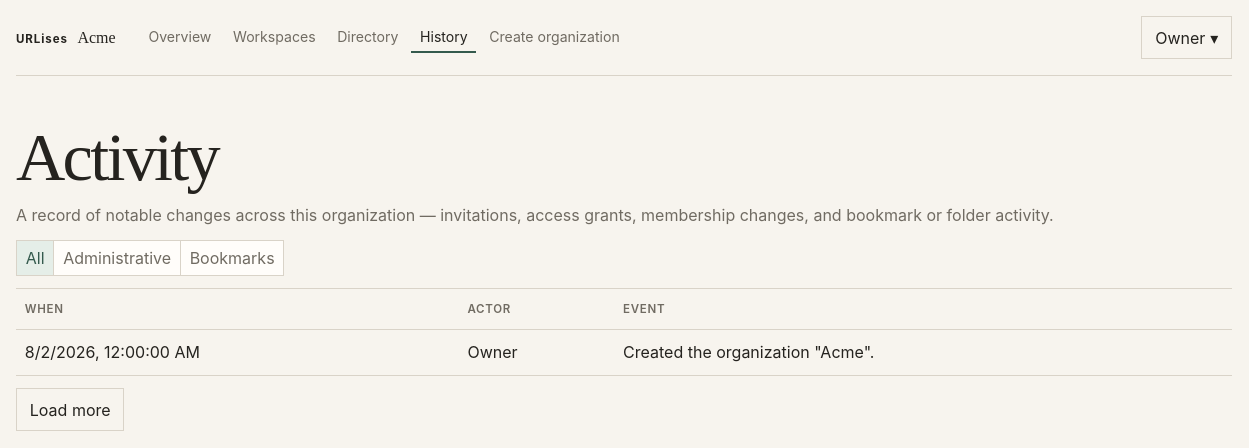
Test case: activity page › renders a populated table with formatted event sentences and loads the next page on demand
The width and height of the screenshot is (1249, 448).
expect the text "Created the organization \"Acme\"." is shown: met, box x1=614 y1=329 x2=1232 y2=376
expect the column heading "When" is shown: met, box x1=16 y1=289 x2=459 y2=329
Click the button "Load more" at (70, 410), box x1=16 y1=388 x2=124 y2=431
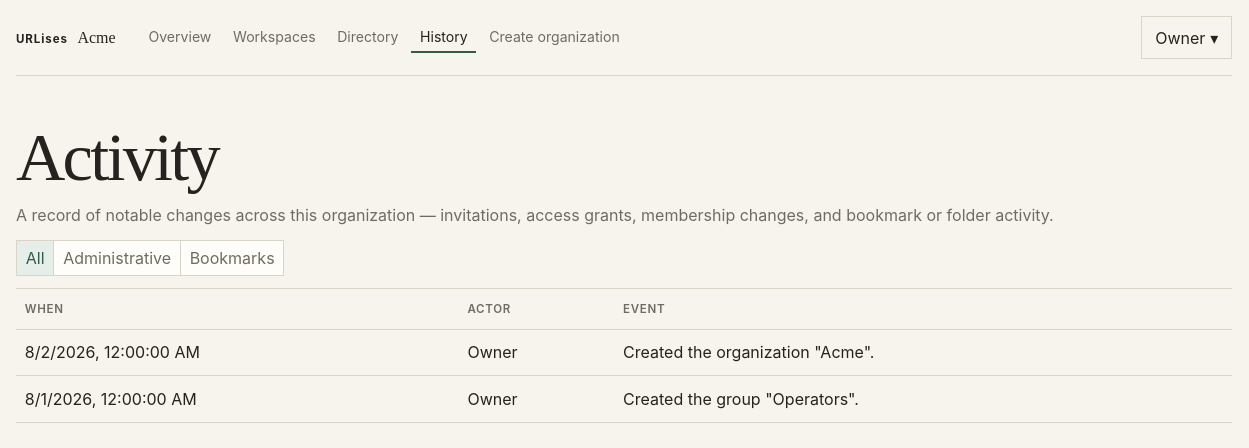
expect the text "Created the group \"Operators\"." is shown: met, box x1=614 y1=376 x2=1232 y2=422
expect the button "Load more" is gone: met
